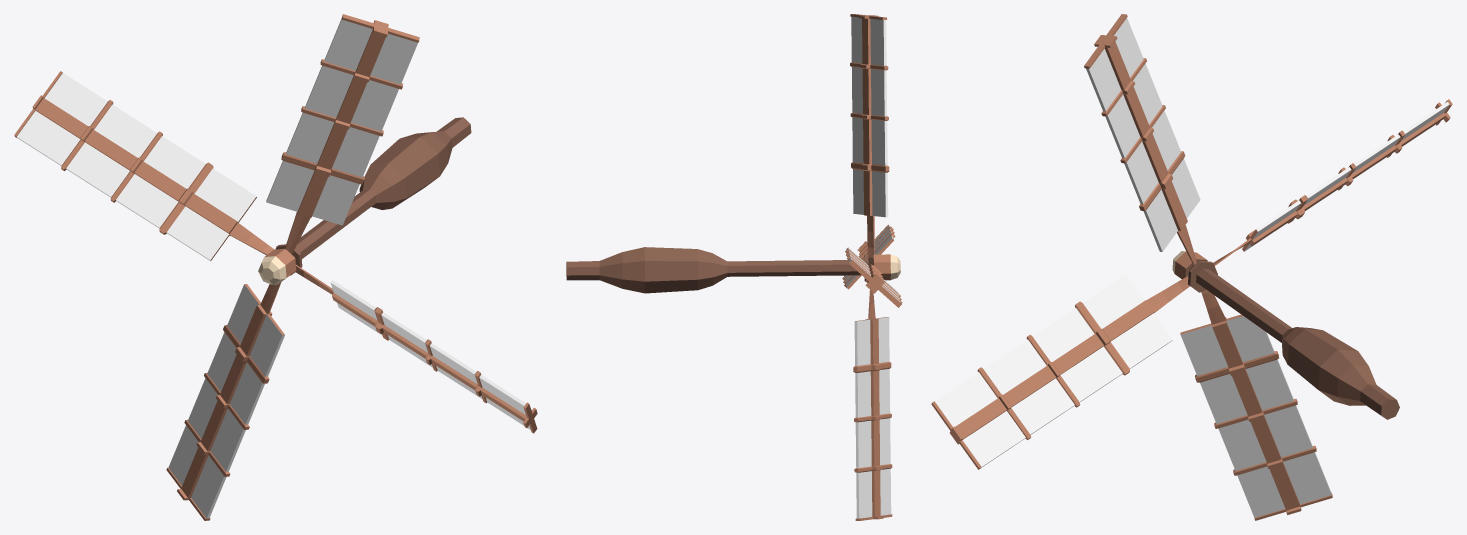
The model's file is elice.obj.
3 views of the same model, side by side, from view 1: azimuth 30°, elevation 25°; view 2: azimuth 150°, elevation 25°; view 3: azimuth 270°, elevation 25° (orthographic). The views are drawn at different scales.
Parts seen in each view (by area): view 1: Elice1; view 2: Elice1; view 3: Elice1.
Part boxes in pixels (x1,y1,x2,y2): Elice1: (14, 14, 537, 520); Elice1: (566, 14, 902, 520); Elice1: (931, 14, 1452, 520).
Size of the model in its own units: 1.79 by 2.13 by 1.86.
